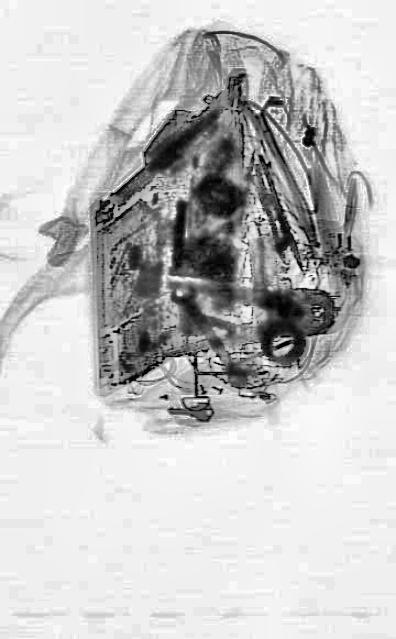Pliers: (160, 274, 334, 356)
Wrench: (168, 270, 251, 402)
